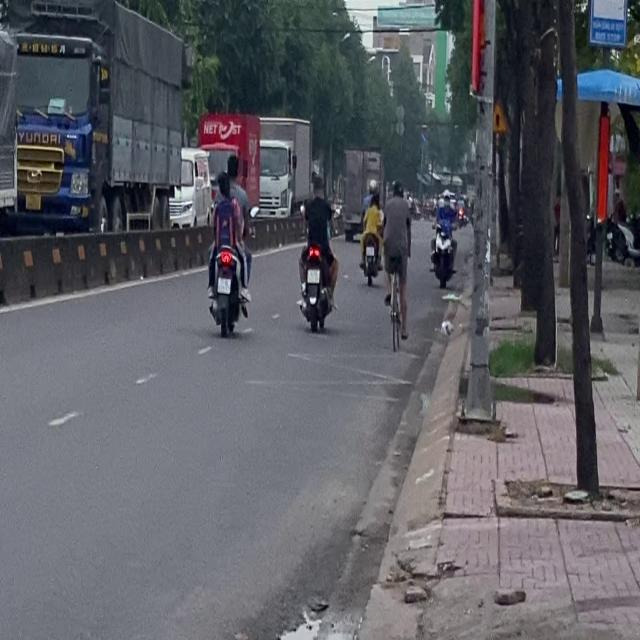licenseplate: (204, 152, 252, 337)
nohelmet: (218, 276, 230, 292)
